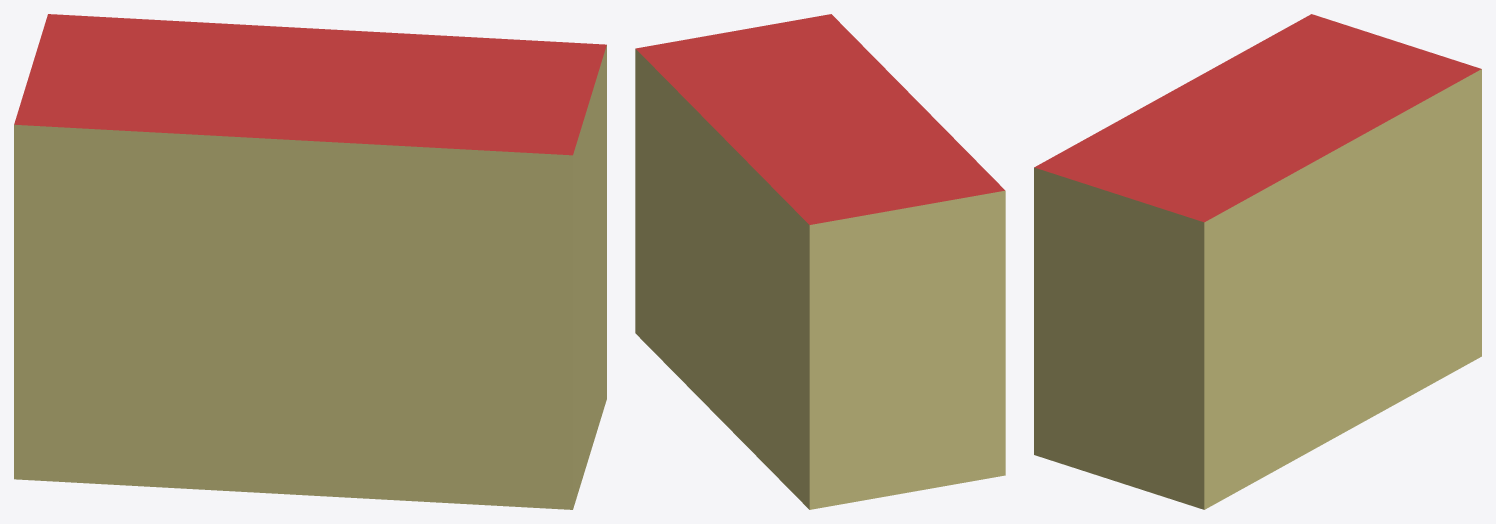
3 views of the same model, side by side, from view 1: azimuth 30°, elevation 25°; view 2: azimuth 150°, elevation 25°; view 3: azimuth 270°, elevation 25° (orthographic). The views are drawn at different scales.
Parts seen in each view (by area): view 1: group_4, group_3; view 2: group_4, group_3; view 3: group_4, group_3.
Boxes of the visible parts, <box> form: group_4: <box>14,45,606,509</box>; group_3: <box>14,14,606,155</box>; group_4: <box>635,49,1005,509</box>; group_3: <box>635,14,1004,224</box>; group_4: <box>1034,69,1481,509</box>; group_3: <box>1034,14,1481,222</box>.
Bounding box in the file's own units: 9.27 × 8.42 × 5.96.
